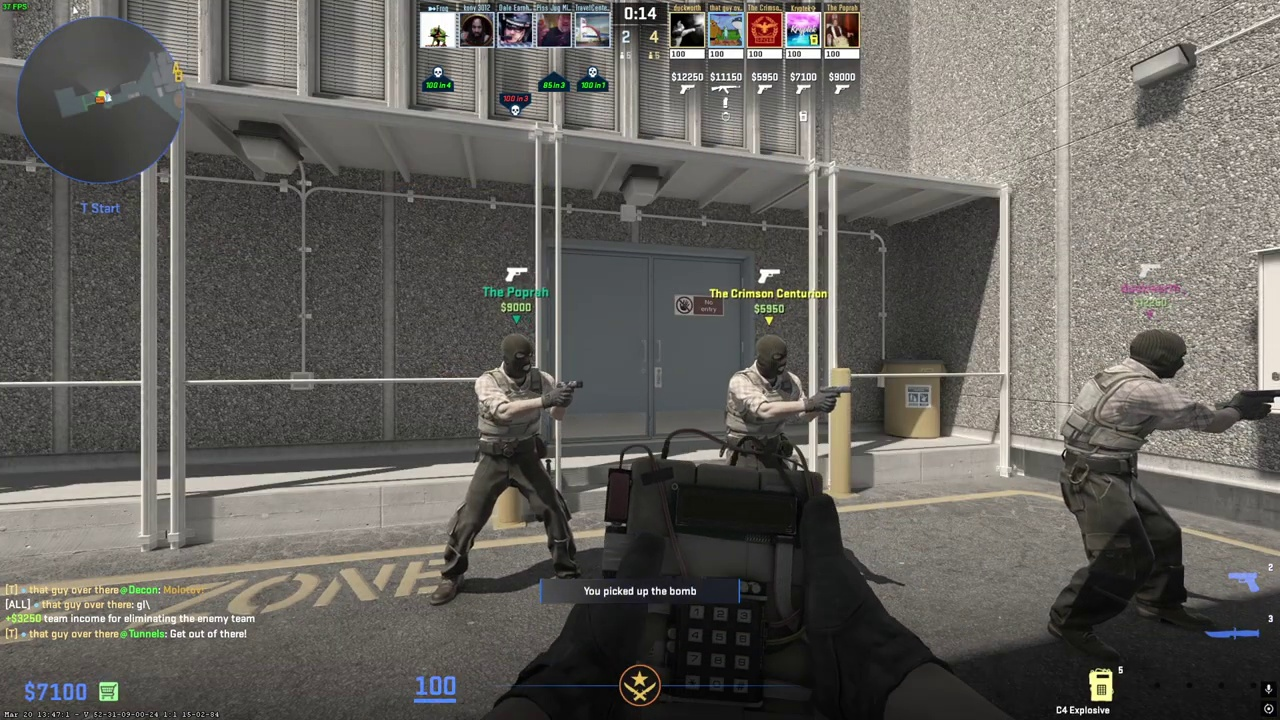Terrorist: (1051, 326, 1199, 654), (442, 334, 578, 600), (720, 335, 813, 471)
